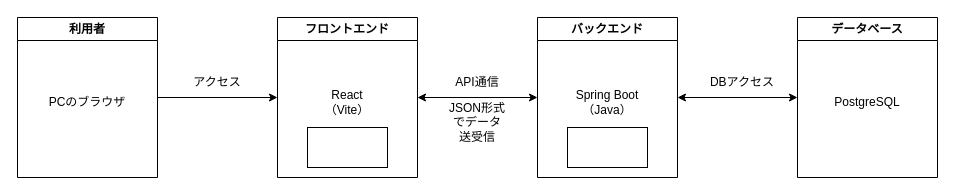
The diagram is 955 pixels wide and 195 high, and some of its shapes have lost their labels. Each missing label, with the centre of its shape:
"開発環境 IDE" belongs at pixel 607 147.
"開発環境 VS Code" belongs at pixel 347 147.
